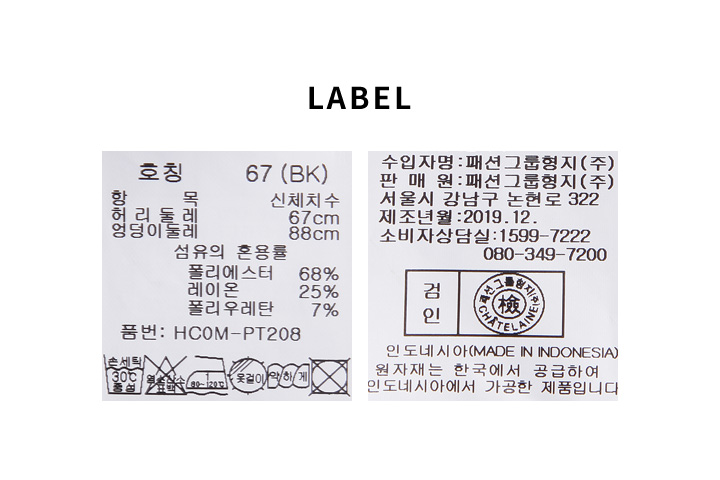KR_gentle_wring: (267, 360, 309, 392)
KR_hand_wash_30_neutral: (103, 349, 144, 397)
KR_hang_dry_in_shade: (228, 356, 268, 397)
KR_iron_low_temp_with_cloth: (186, 354, 230, 395)
KR_no_bleach: (145, 353, 187, 398)
KR_no_tumble_dry: (310, 356, 349, 398)
